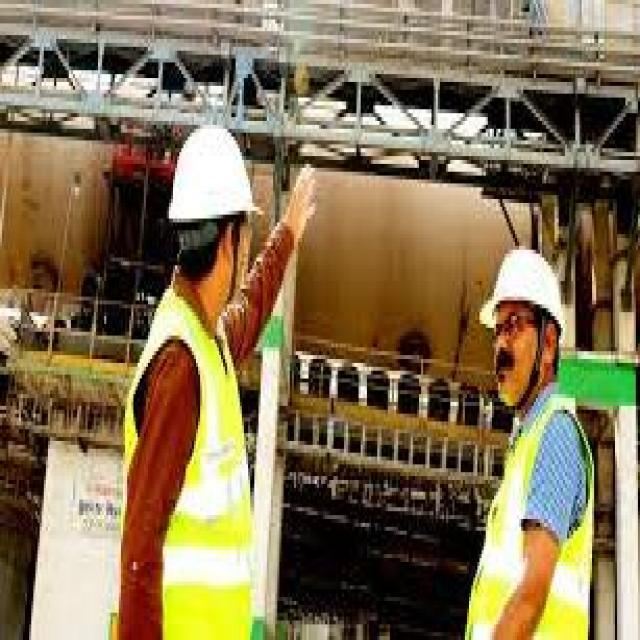Reflective-Jacket: (116, 289, 262, 636), (460, 386, 604, 640)
Safety-Helmet: (156, 117, 263, 238), (474, 238, 576, 347)
